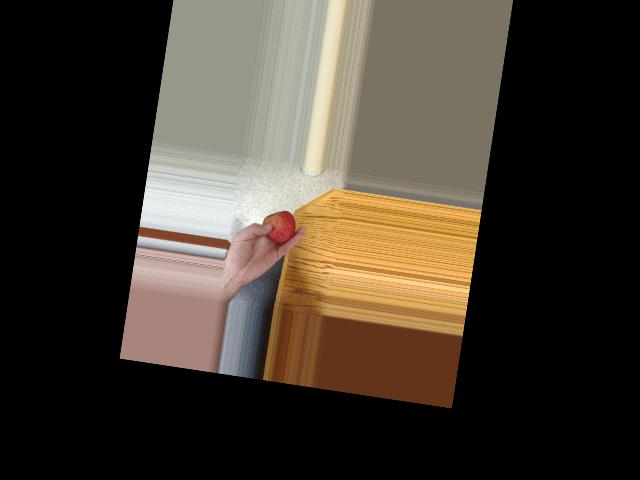apple: (255, 205, 298, 247)
